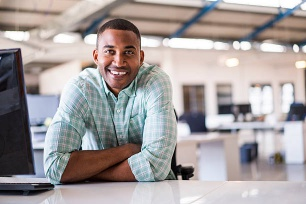male: (95, 19, 141, 92)
